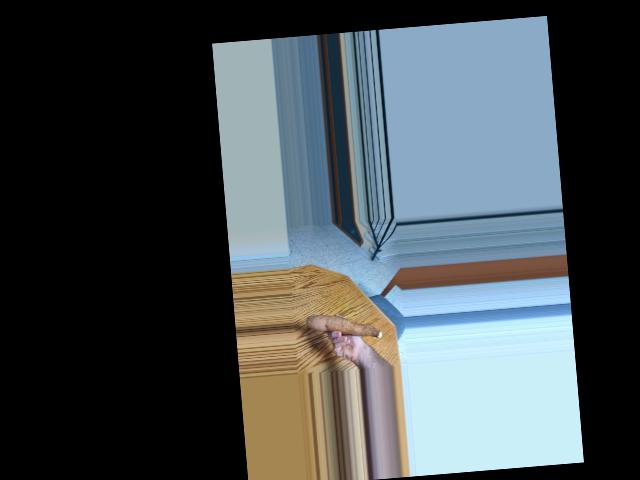sweet_potato: (308, 305, 380, 344)
